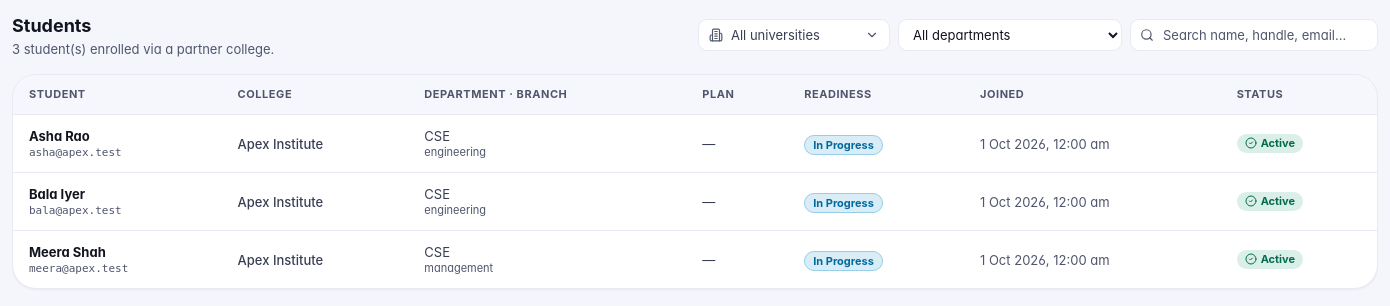
Test: Students tab — loading › ignores a late answer to an old filter — the newest filter always wins
Expected: the text "Asha Rao" is shown, [29, 128, 90, 144]
Select "Engineering & Technology (2)" in the dropdown named "Filter by department" at x=1010, y=35, box [898, 19, 1122, 51]
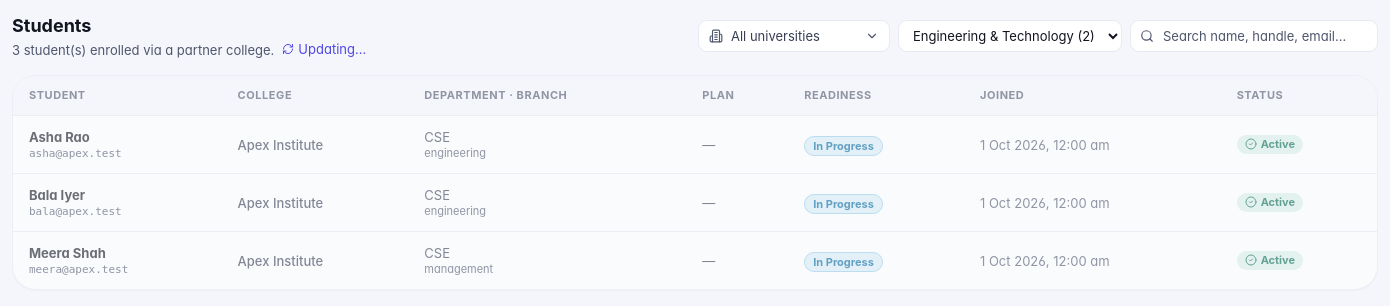
Select "Management (1)" in the dropdown named "Filter by department" at x=1010, y=36, box [898, 20, 1122, 52]
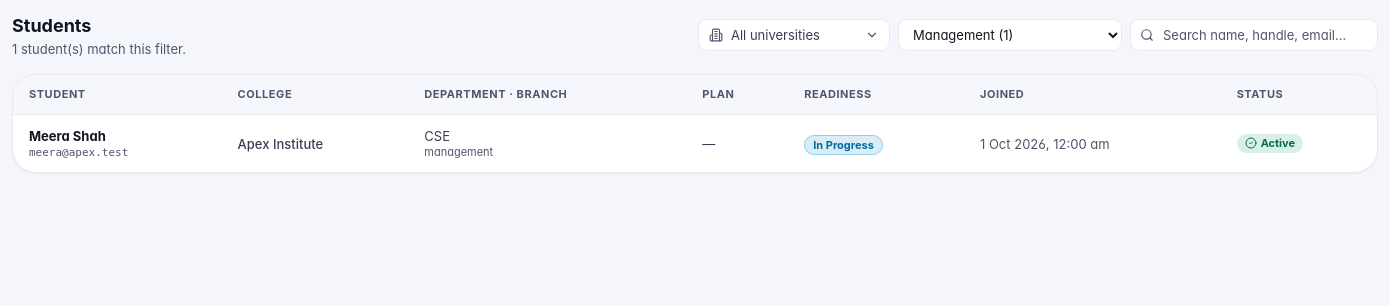
Expected: the text "Meera Shah" is shown, [29, 128, 106, 144]
Now the text "Asha Rao" is gone
Now the text "1 student(s) match this filter." is shown, box [12, 40, 186, 58]
